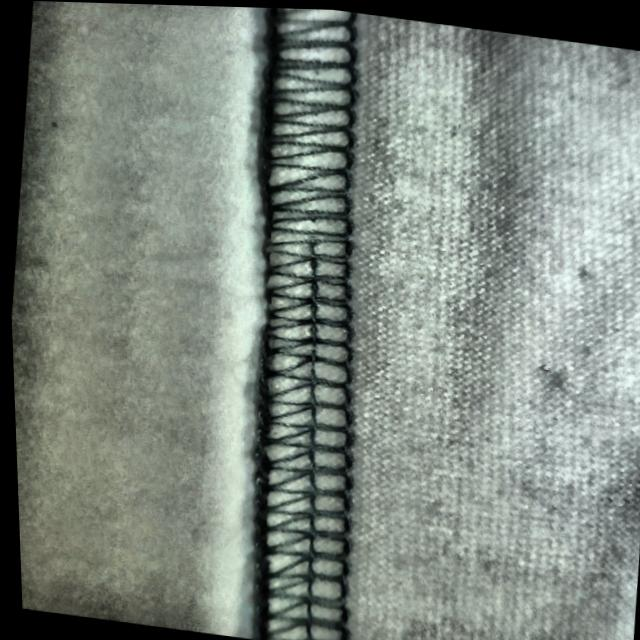Stitch: (223, 56, 392, 476)
